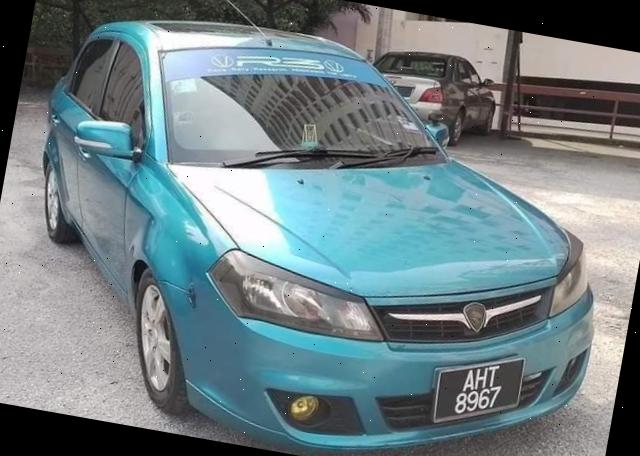License_Plate: (442, 350, 524, 432)
car: (1, 1, 640, 456)
